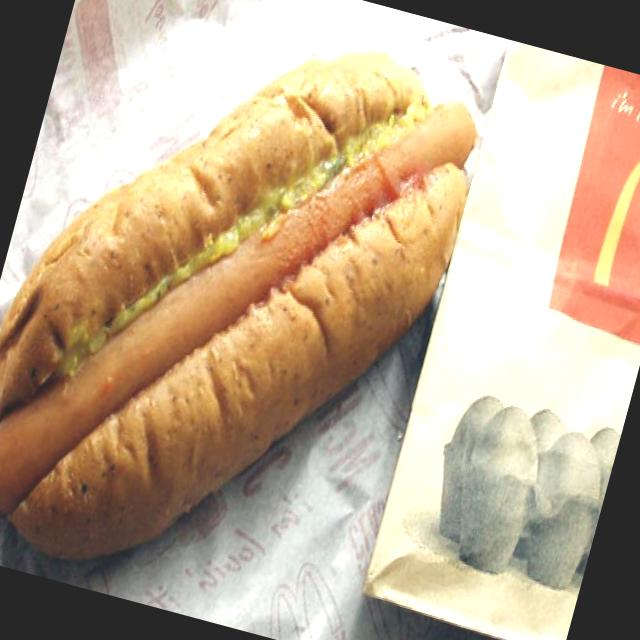Hot Dog: (0, 0, 499, 640)
